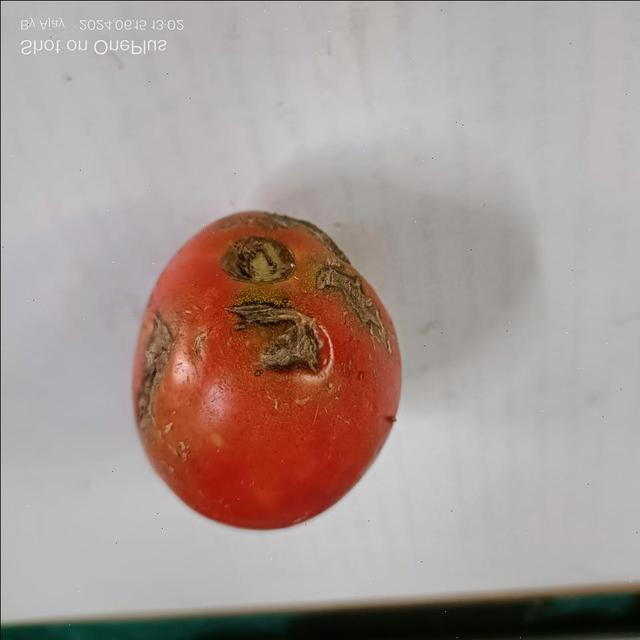Bacterial Spot Fruit: (8, 8, 253, 270)
